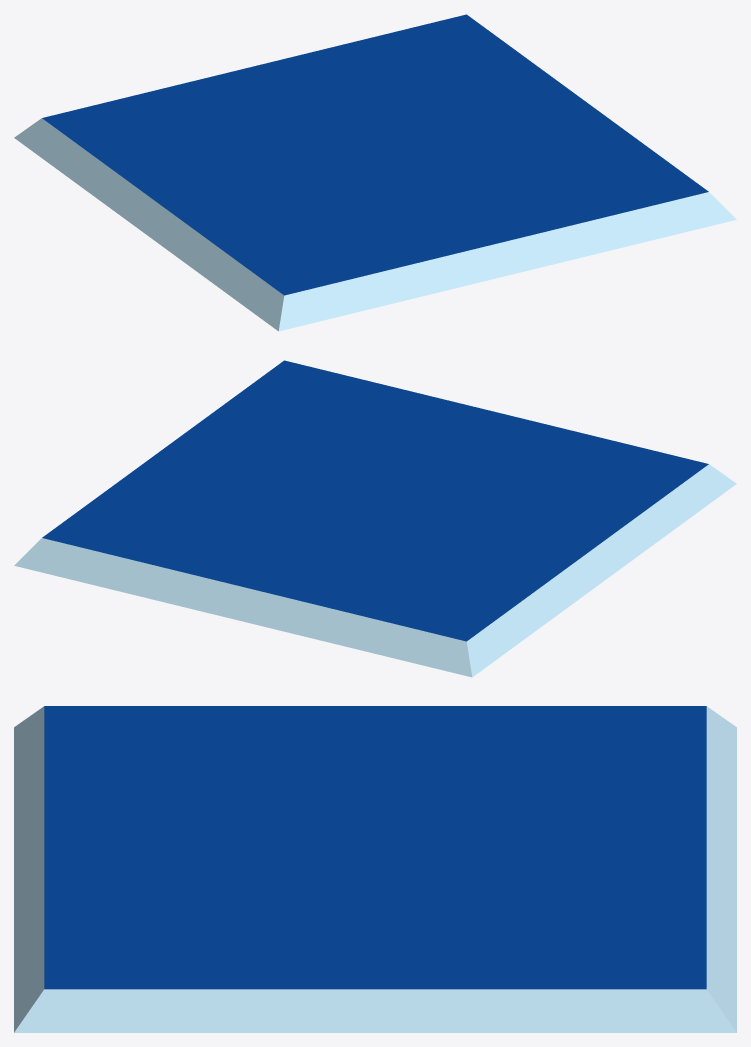
Rendered from Base_blue.fbx.
The picture shows the model from 3 angles, top to bottom: view 1: azimuth 30°, elevation 25°; view 2: azimuth 150°, elevation 25°; view 3: azimuth 270°, elevation 25°; orthographic projection. The views are drawn at different scales.
Visible parts, largest first — view 1: BaseBlue; view 2: BaseBlue; view 3: BaseBlue.
Boxes of the visible parts, x1,y1,x2,y2 form: BaseBlue: [14, 14, 736, 331]; BaseBlue: [14, 360, 736, 677]; BaseBlue: [14, 706, 736, 1032].
Size of the model in its own units: 200 by 9.91 by 200.
